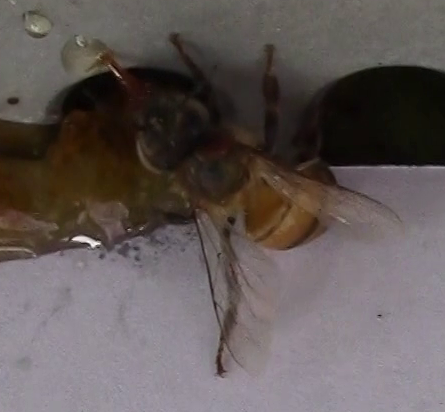Varroa destructor: (197, 129, 235, 158)
